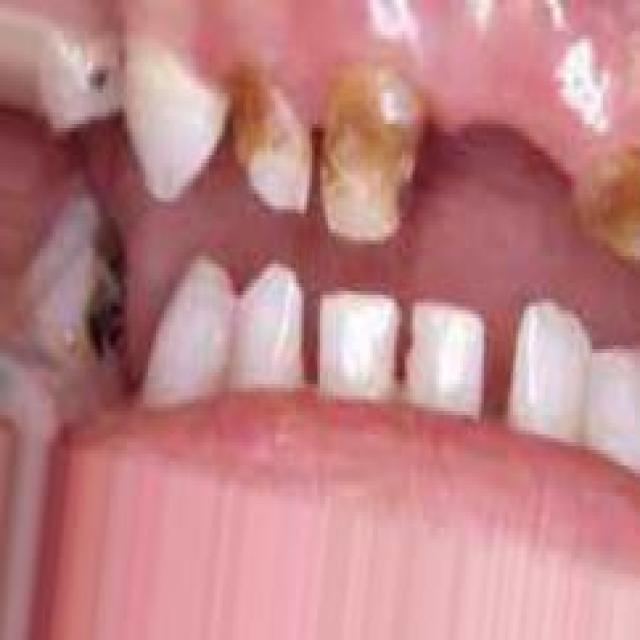caries: (316, 52, 426, 253), (224, 62, 315, 225), (562, 115, 640, 284), (68, 250, 127, 380), (76, 48, 115, 110)
